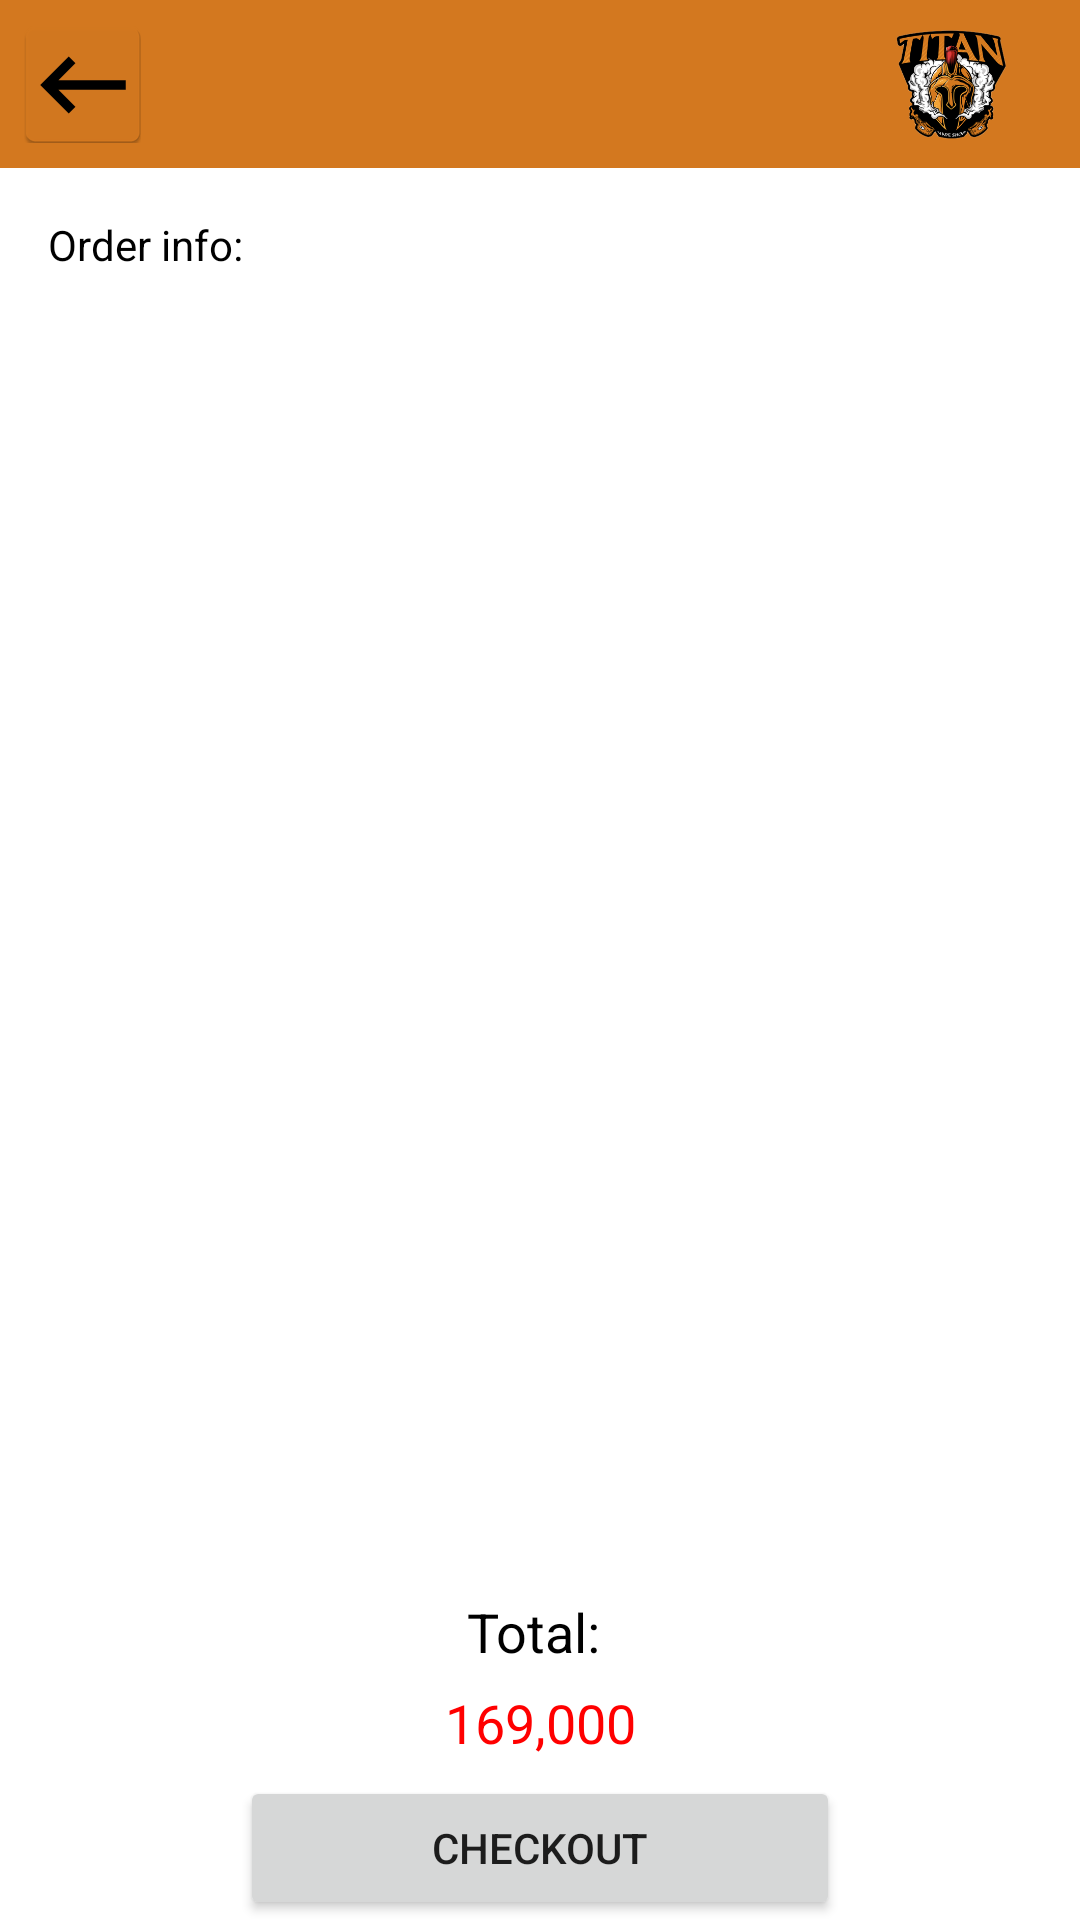

Icon click points for this 1080*1920 phone screenshot, format (x,y):
back: (83,88)
